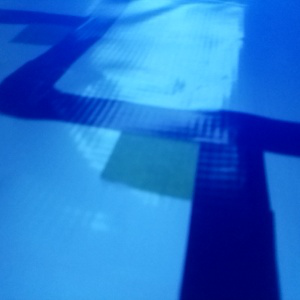bottom_left: (100, 115, 264, 201), (11, 17, 93, 46)
